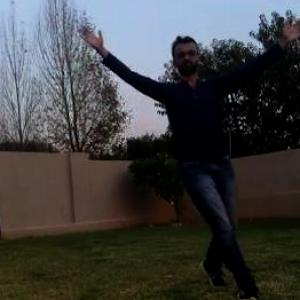takeoff: (74, 23, 300, 296)
